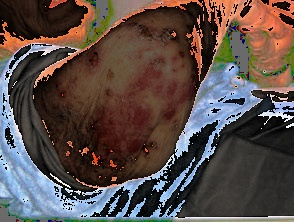SJS-TEN: (20, 0, 242, 203)
